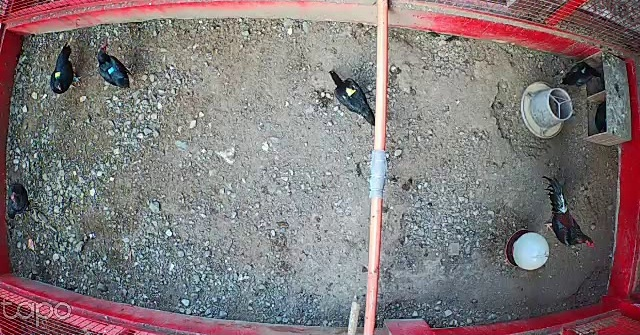Chicken: (327, 68, 376, 126), (92, 42, 134, 91), (48, 42, 80, 97), (558, 56, 602, 91), (5, 182, 37, 224)
Drinker: (504, 228, 550, 270)
Feeder: (518, 78, 572, 141)
Rooster: (537, 173, 599, 253)
Saddle_Color_Blue: (107, 66, 115, 74)
Saddle_Color_Yellow: (347, 86, 356, 98)
Saddle_Color_YellowGreen: (54, 71, 62, 83)
